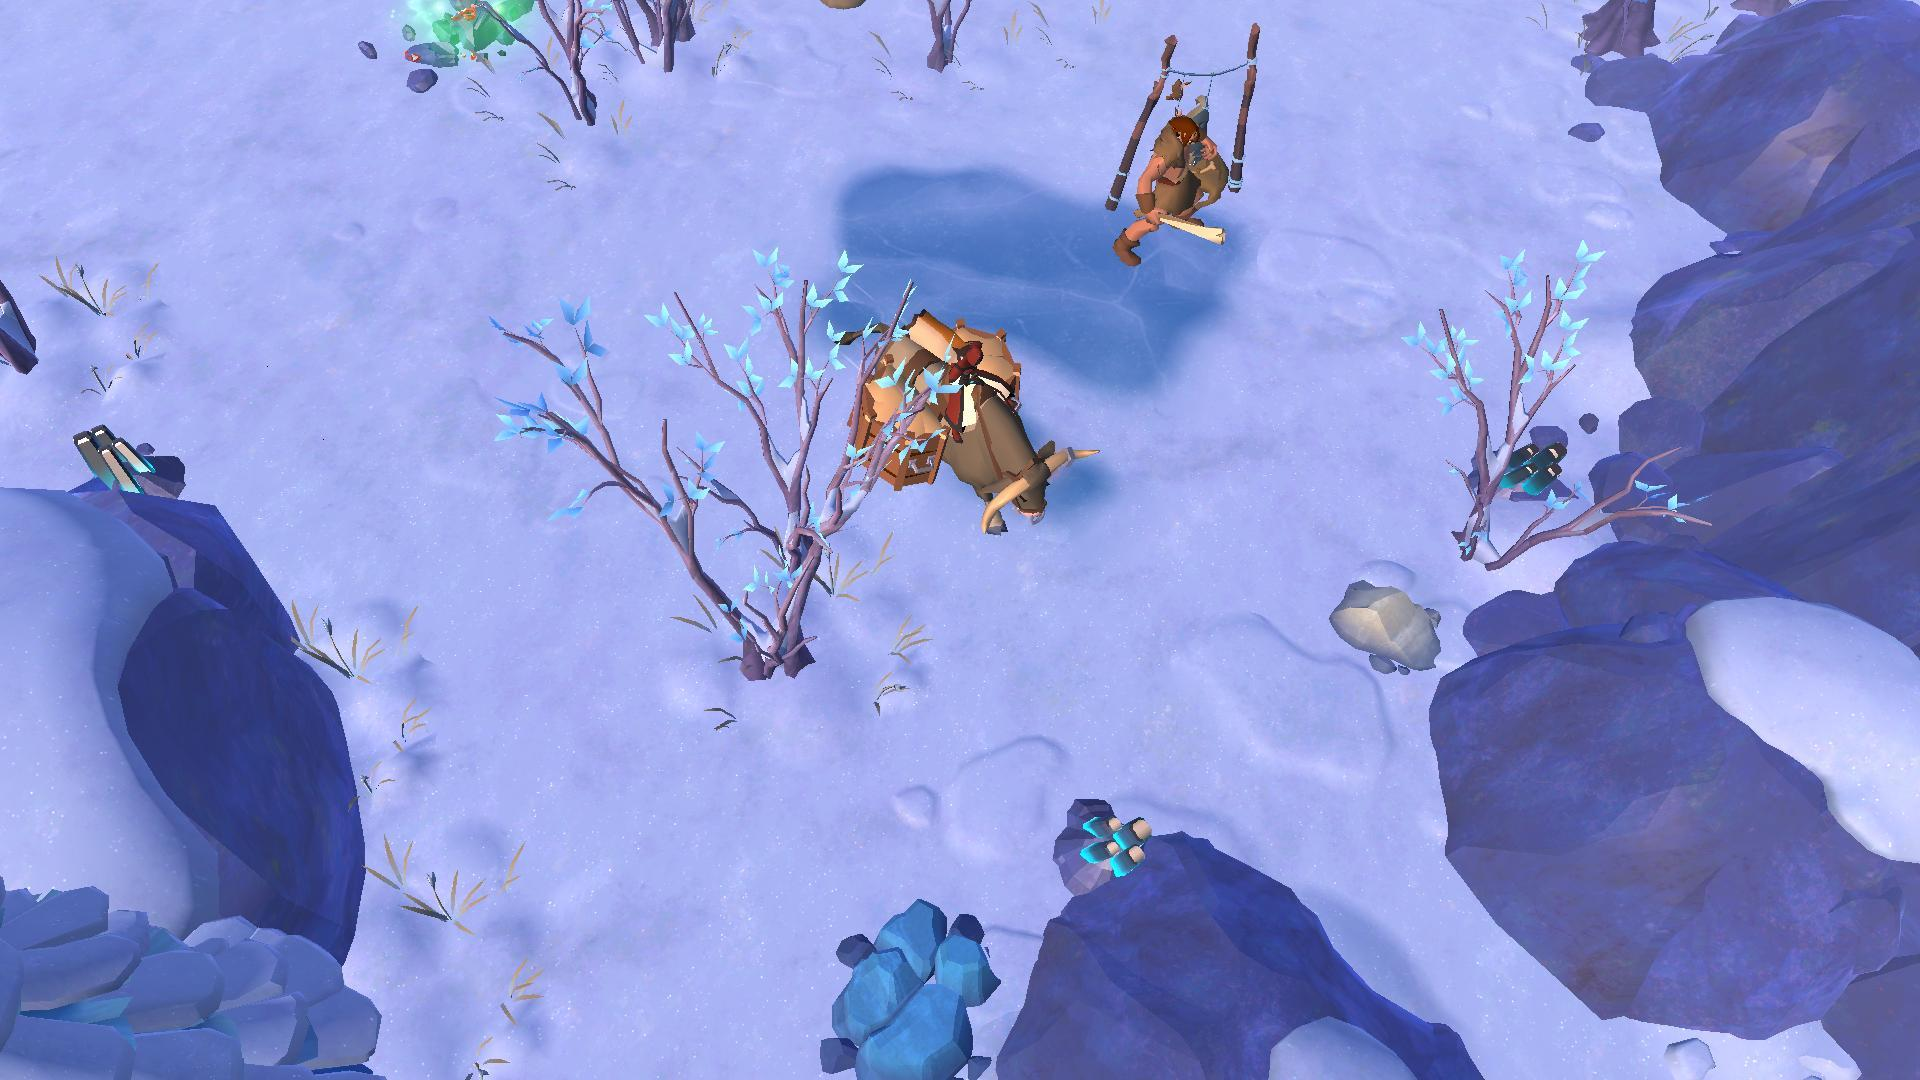enemy_factionKeeper: (1109, 111, 1232, 262)
ore_t4: (65, 414, 150, 491), (1071, 803, 1151, 878), (1495, 439, 1565, 497)
rock_t4: (814, 890, 1002, 1080)
